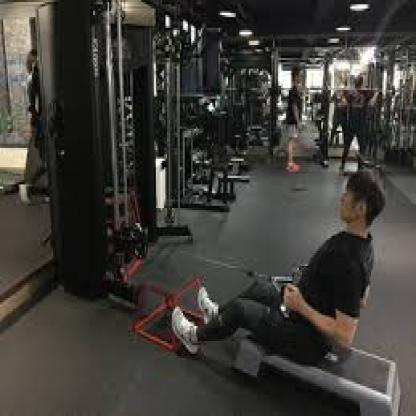Seated Cable Rows: (32, 1, 411, 416)
